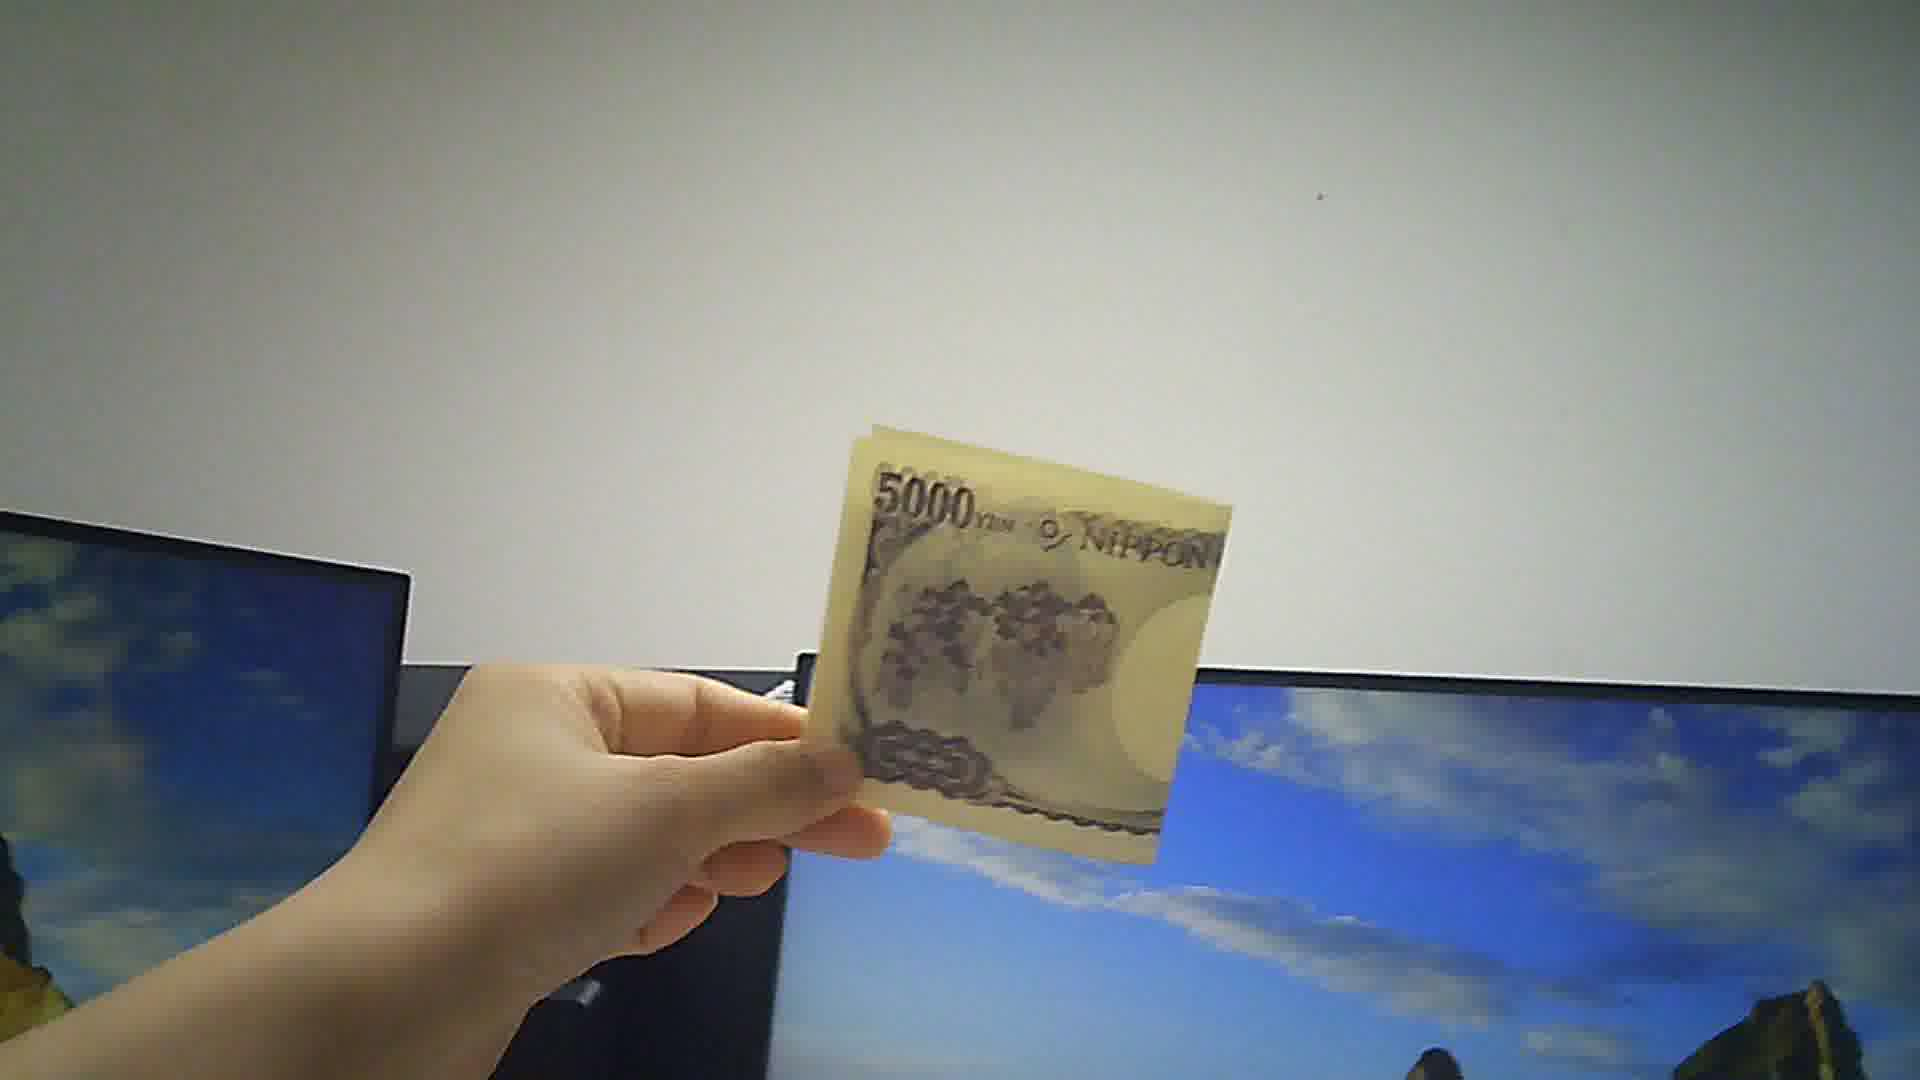5,000 Yen: (811, 415, 1233, 878)
